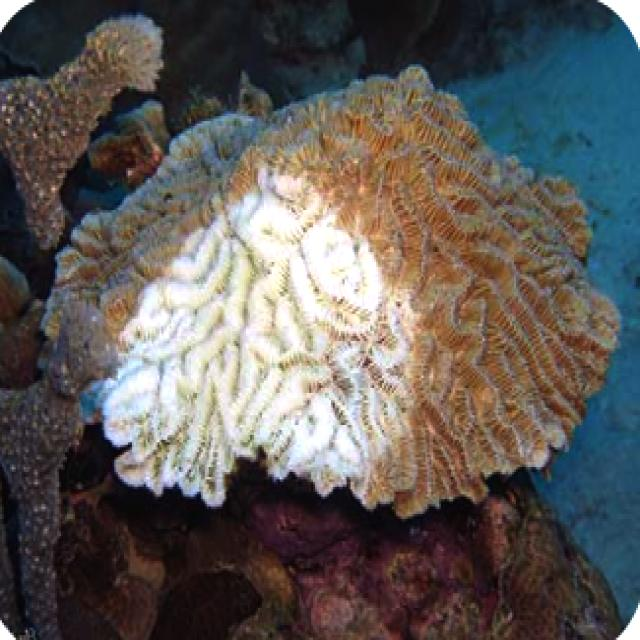Coral: (39, 64, 622, 519)
